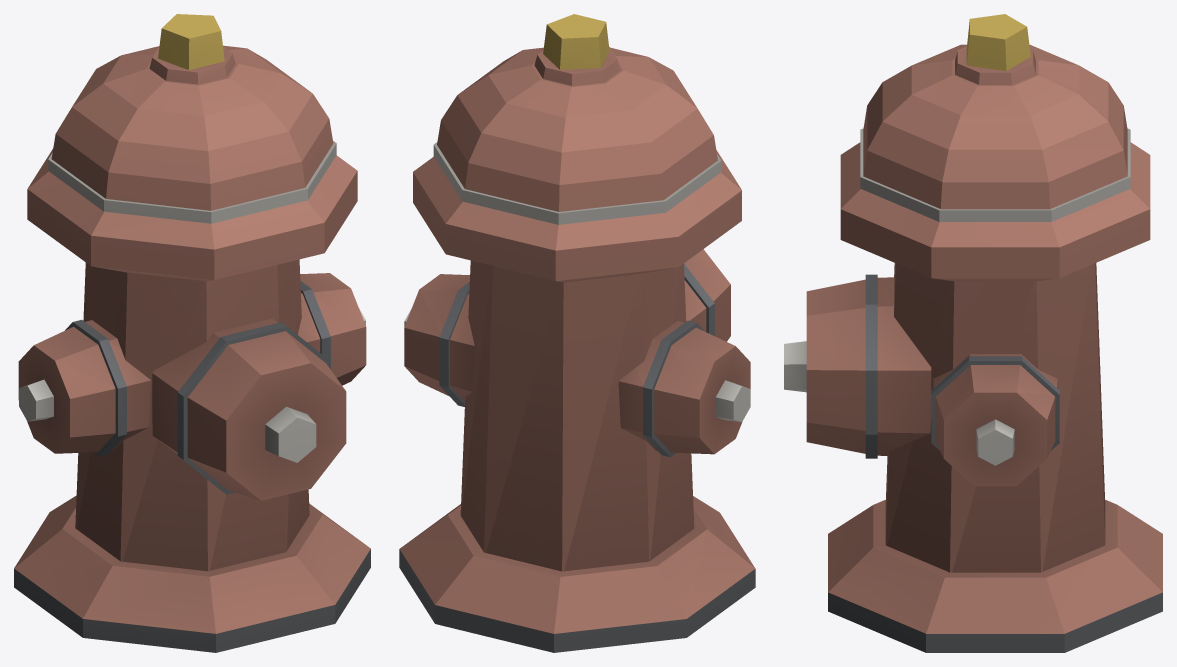
The model's file is hydrant.glb.
The picture shows the model from 3 angles, left to right: view 1: azimuth 30°, elevation 25°; view 2: azimuth 150°, elevation 25°; view 3: azimuth 270°, elevation 25°; orthographic projection.
Visible parts, largest first — view 1: hydrant; view 2: hydrant; view 3: hydrant.
Boxes of the visible parts, bbox=[...] form: hydrant: bbox=[14, 14, 370, 652]; hydrant: bbox=[399, 14, 755, 652]; hydrant: bbox=[784, 14, 1162, 652].
Bounding box in the file's own units: 0.508 × 0.812 × 0.5017.
